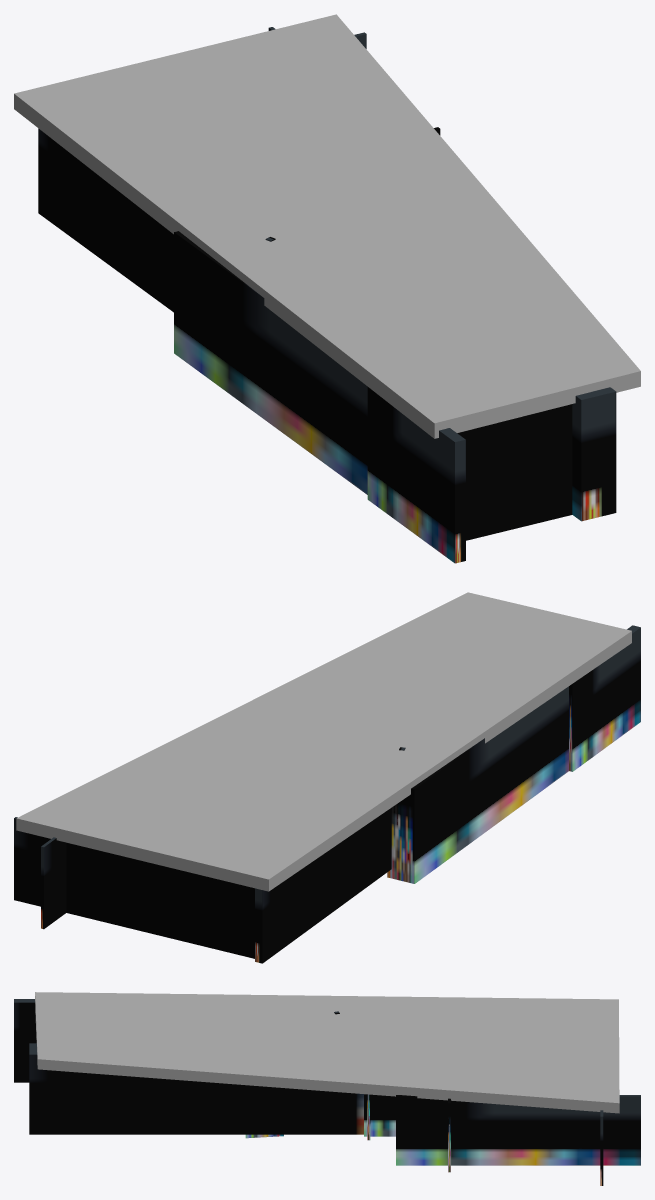
The model's file is Stage5Collider (2).fbx.
The picture shows the model from 3 angles, top to bottom: view 1: azimuth 30°, elevation 25°; view 2: azimuth 150°, elevation 25°; view 3: azimuth 270°, elevation 25°; orthographic projection. The views are drawn at different scales.
Visible parts, largest first — view 1: Top, Cube.009, Cube.011, Cube.012, Cube.001, Cube.010; view 2: Top, Cube.009, Cube.003, Cube.001, Cube.012, Cube.004; view 3: Top, Cube.010, Cube.004, Cube.012, Cube.006, Cube.003.
Part boxes in pixels (box(x1,y1,x2,y2)): Top: box(14, 14, 640, 438); Cube.009: box(174, 231, 367, 494); Cube.011: box(457, 404, 572, 540); Cube.012: box(367, 387, 465, 563); Cube.001: box(38, 128, 173, 312); Cube.010: box(572, 387, 616, 521); Top: box(16, 592, 631, 891); Cube.009: box(387, 686, 568, 883); Cube.003: box(14, 817, 254, 958); Cube.001: box(255, 808, 391, 963); Cube.012: box(569, 625, 640, 771); Cube.004: box(41, 837, 66, 929); Top: box(35, 992, 619, 1113); Cube.010: box(29, 1043, 363, 1134); Cube.004: box(396, 1095, 640, 1165); Cube.012: box(14, 999, 36, 1082); Cube.006: box(364, 1094, 395, 1136); Cube.003: box(600, 1110, 603, 1185).
Size of the model in its own units: 38486 by 15719 by 87816.
